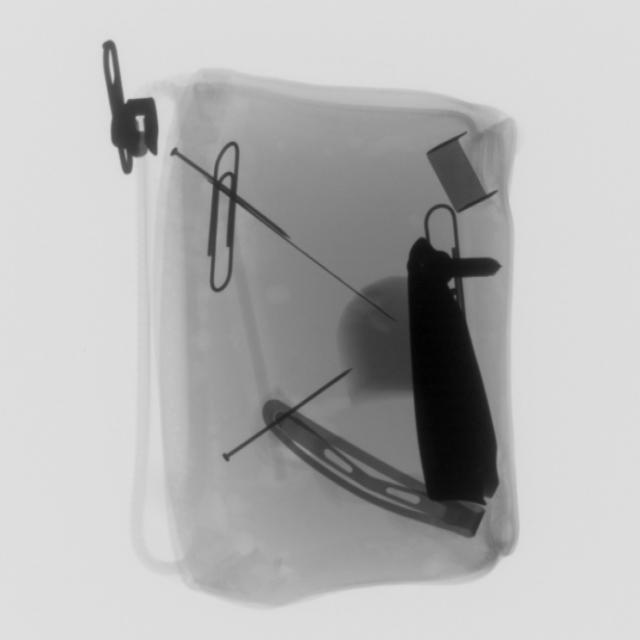BLADE: (251, 409, 446, 527), (191, 133, 252, 305)
GUN: (392, 242, 503, 507)
